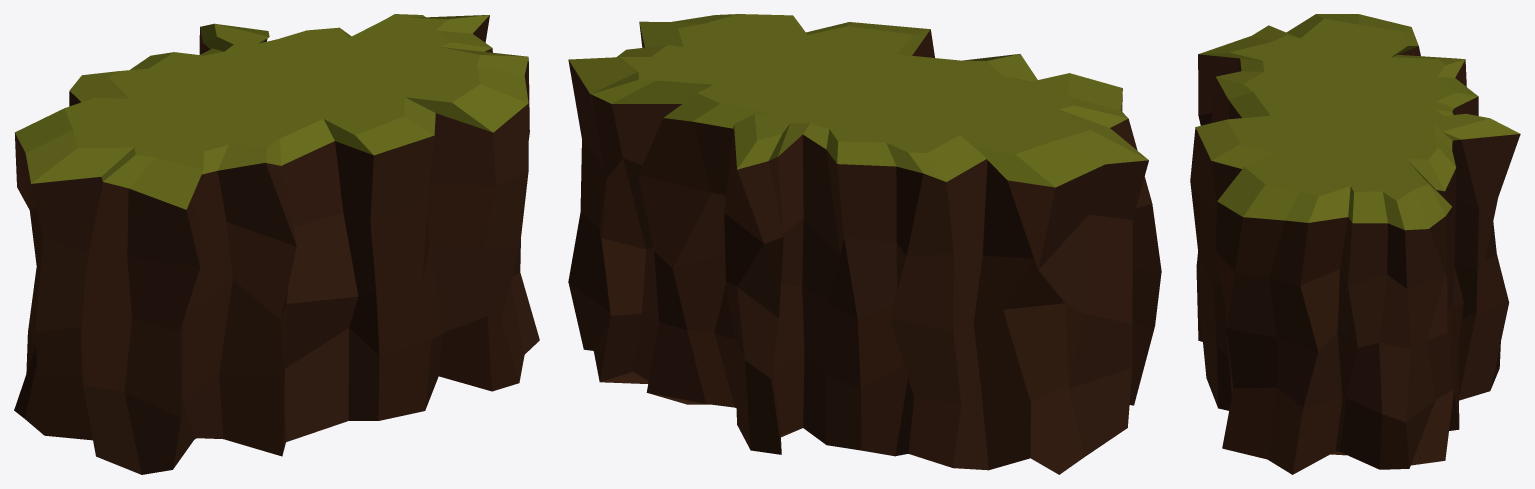
The model's file is cliff_01.fbx.
The picture shows the model from 3 angles, left to right: view 1: azimuth 30°, elevation 25°; view 2: azimuth 150°, elevation 25°; view 3: azimuth 270°, elevation 25°; orthographic projection. The views are drawn at different scales.
Visible parts, largest first — view 1: Plane; view 2: Plane; view 3: Plane.
Boxes of the visible parts, bbox=[...] form: Plane: bbox=[14, 14, 539, 474]; Plane: bbox=[568, 14, 1161, 474]; Plane: bbox=[1190, 14, 1520, 474].
Bounding box in the file's own units: 385 × 218 × 240.
